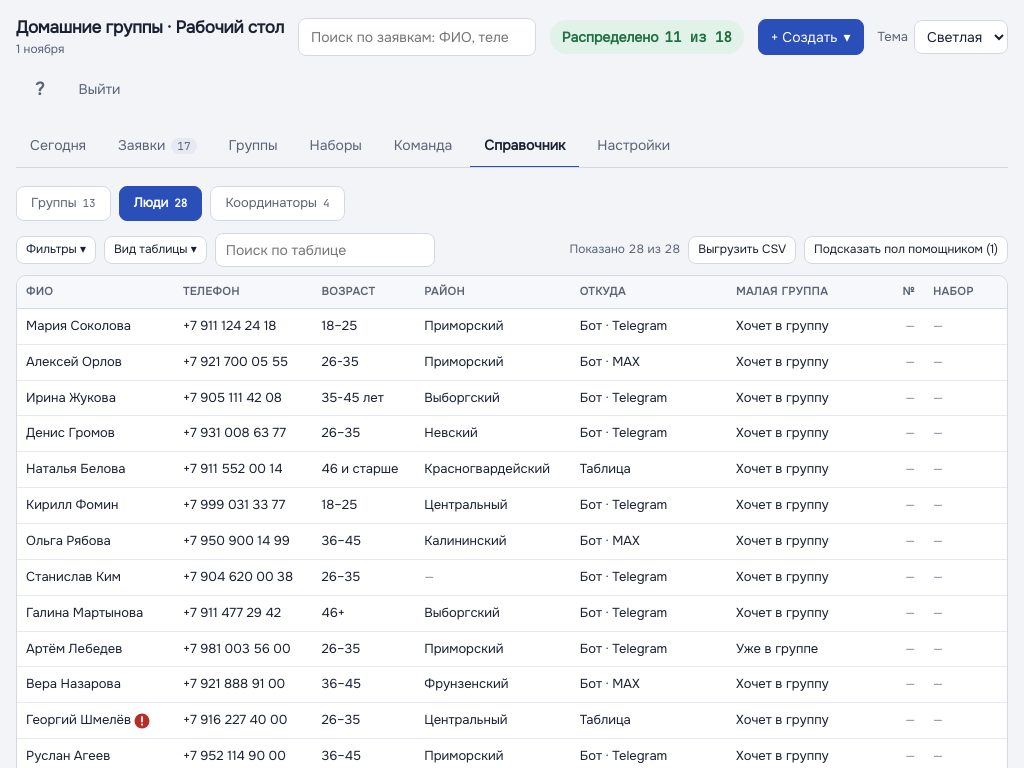
Test case: пол человека › полный вход запускает прогон и видит, сколько заполнено
Click the button "Подсказать пол помощником (1)" at point(906, 250), box [804, 236, 1008, 264]
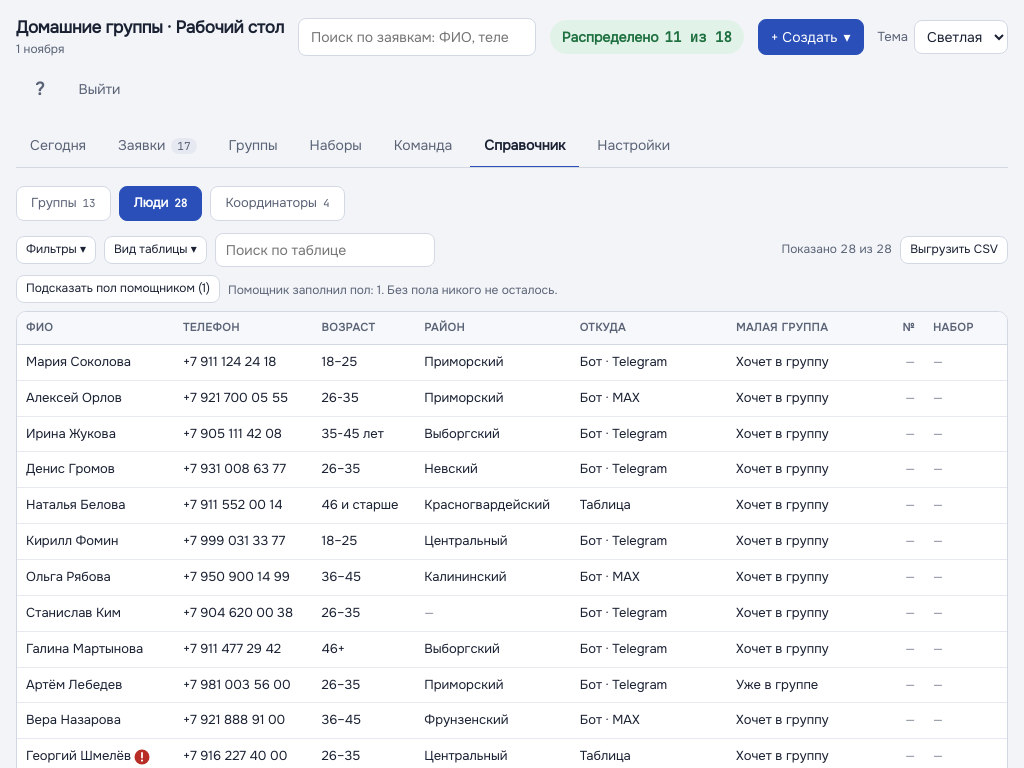
Expected: the text "Помощник заполнил пол: 1. Без пола никого не осталось." is shown, [228, 282, 557, 300]
